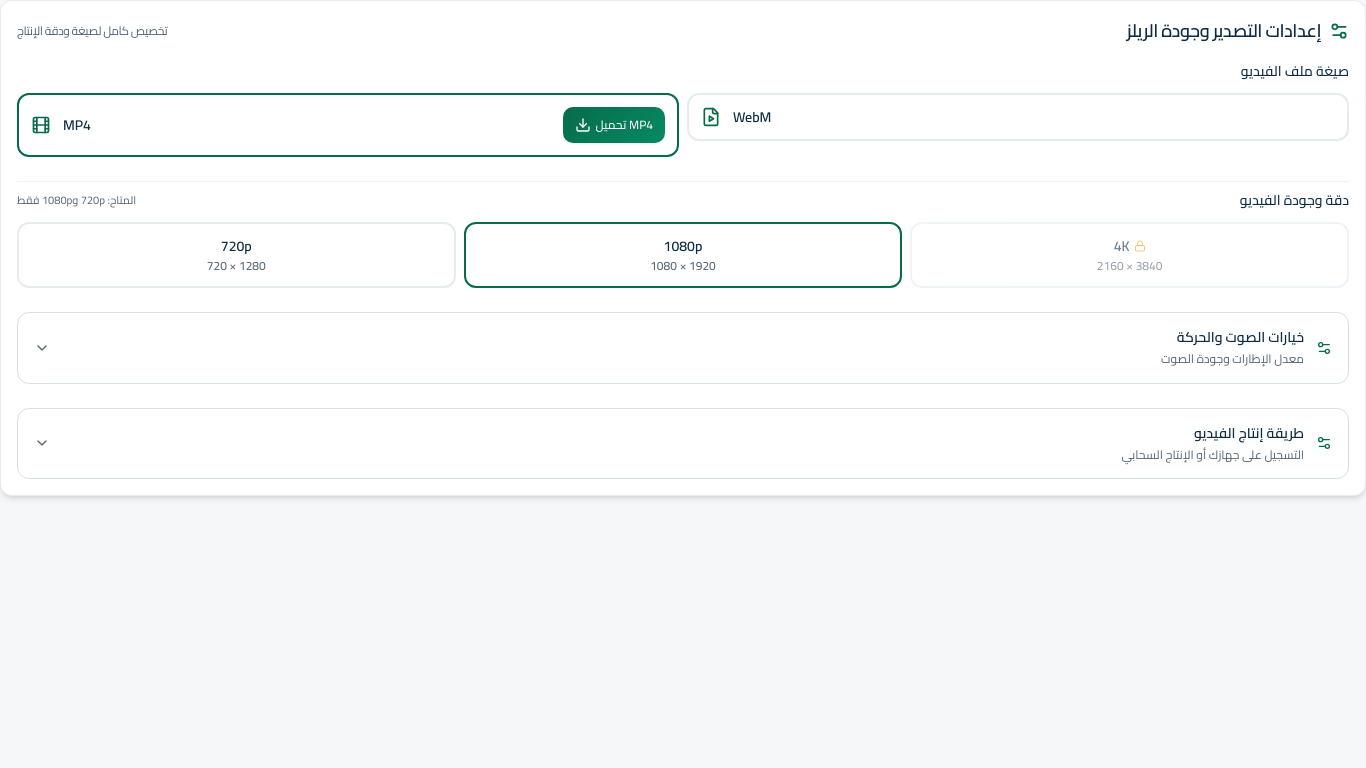
Test: export settings progressive disclosure › selects WebM locally and restores MP4 for cloud production
Click the radio button with id "format-webm": (694, 100) left=686, top=92, right=702, bottom=108
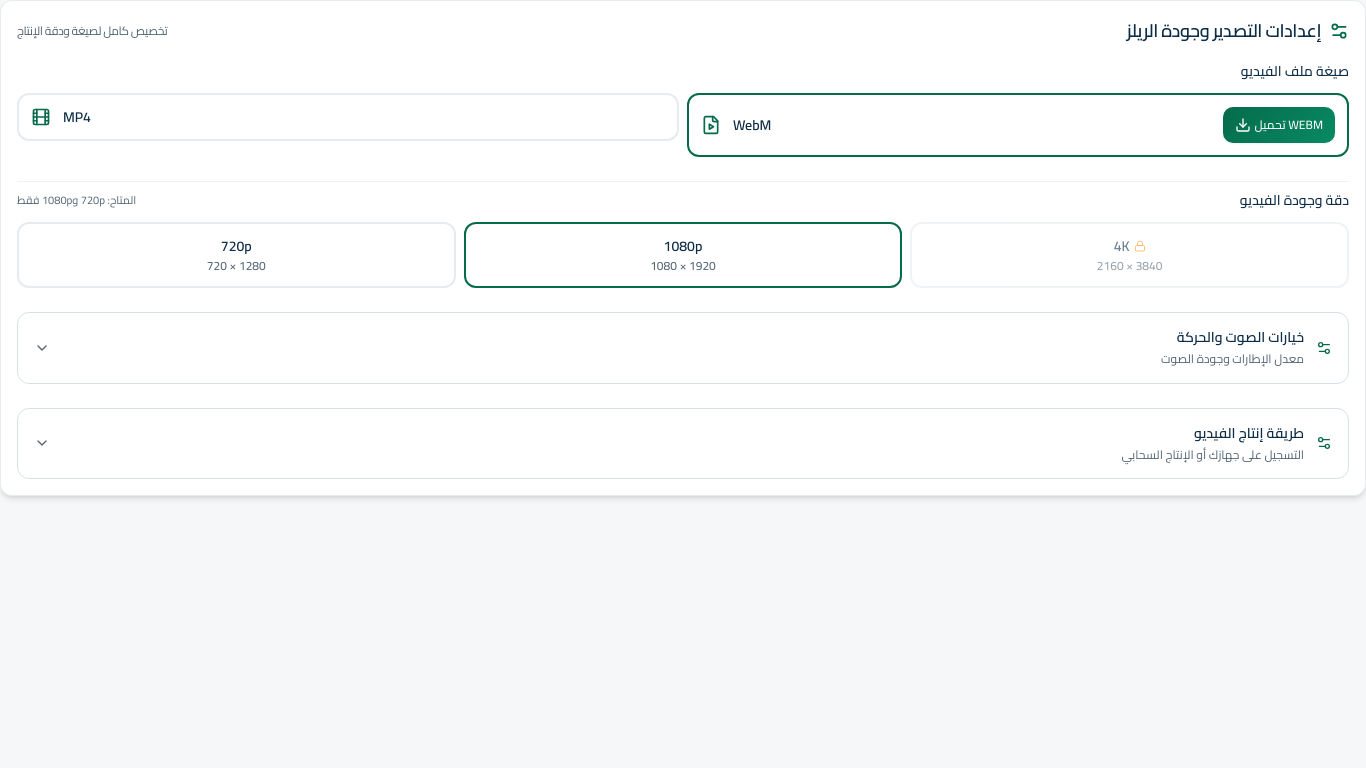
Expected: the button "تحميل WEBM" is enabled, left=1223, top=107, right=1335, bottom=143
Expected: the radio button with id "format-webm" is checked, left=686, top=92, right=702, bottom=108
Click the text "طريقة إنتاج الفيديو": (1249, 432) left=1194, top=420, right=1304, bottom=446
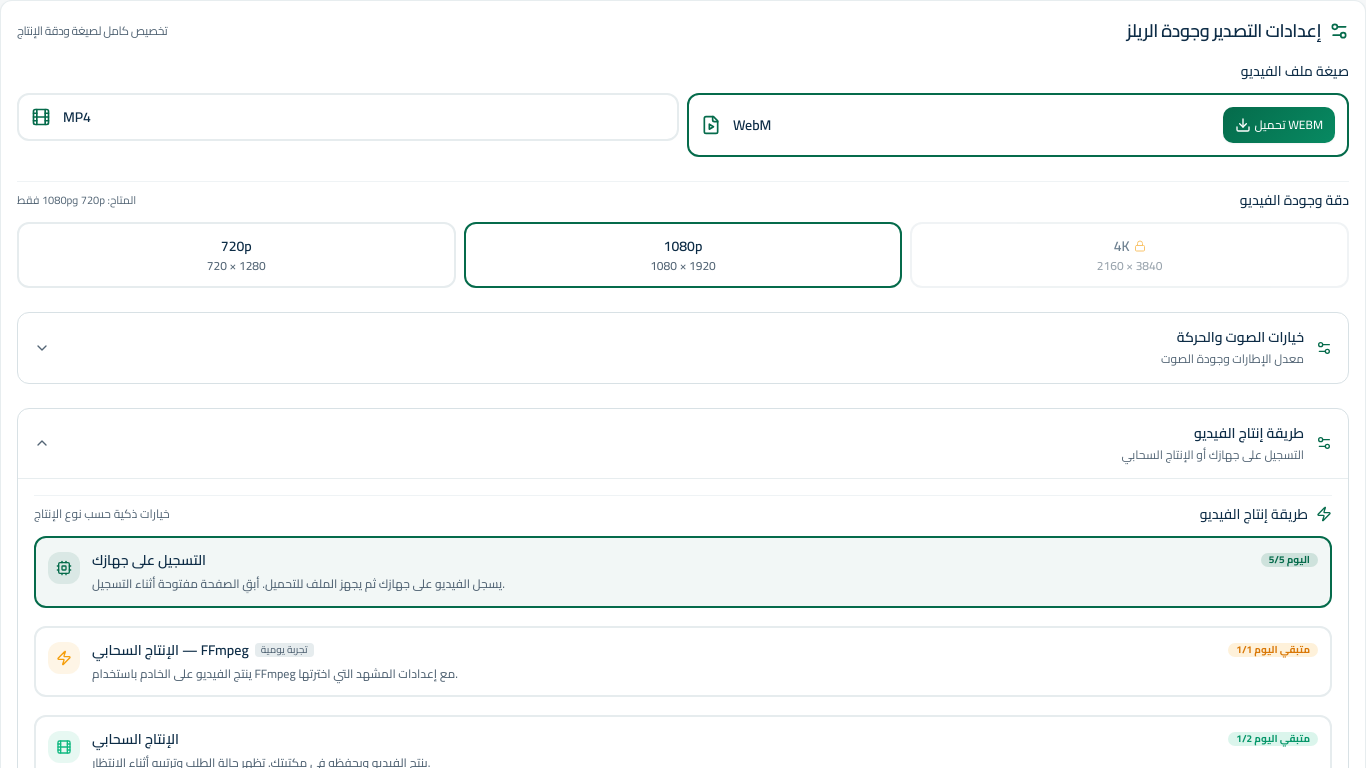
Click the radio button with id "engine-skia-canvas": (41, 722) left=33, top=714, right=49, bottom=730
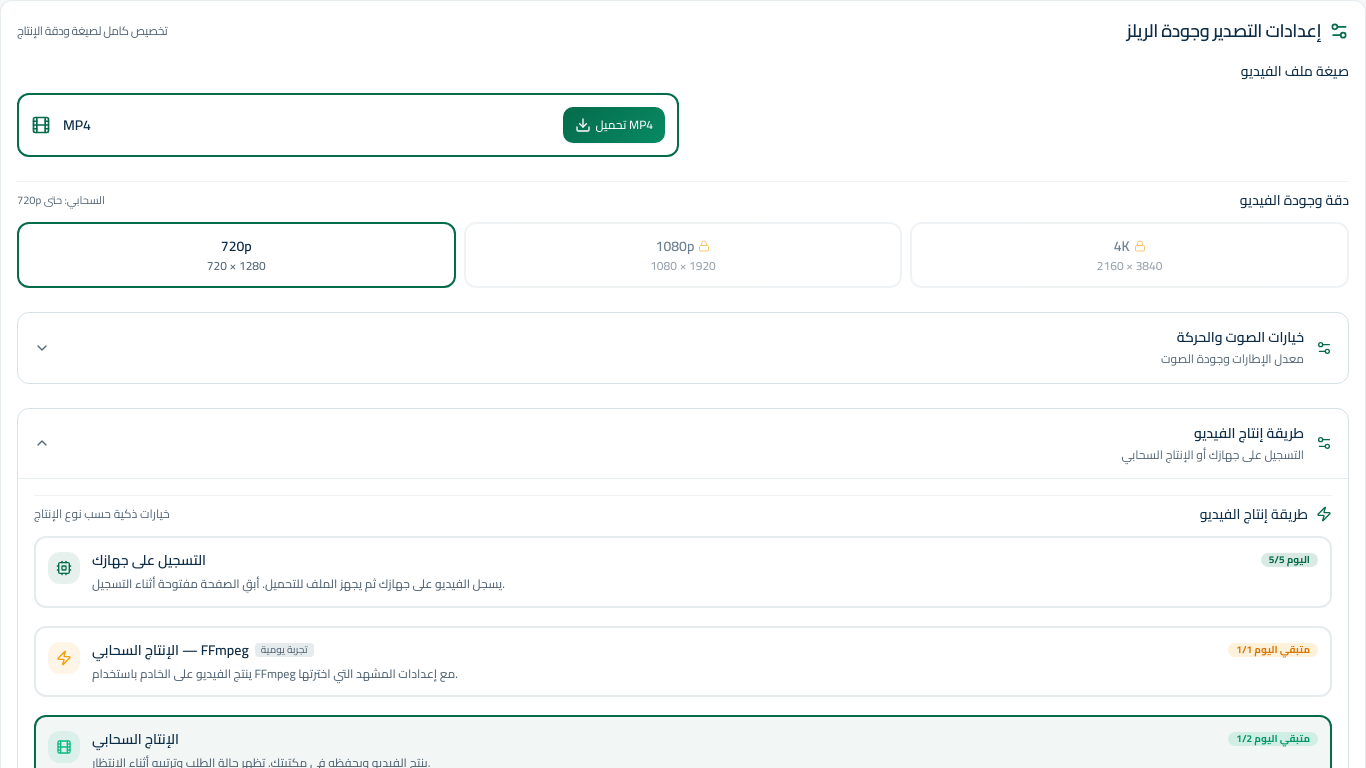
Expected: the radio button with id "format-webm" is gone
